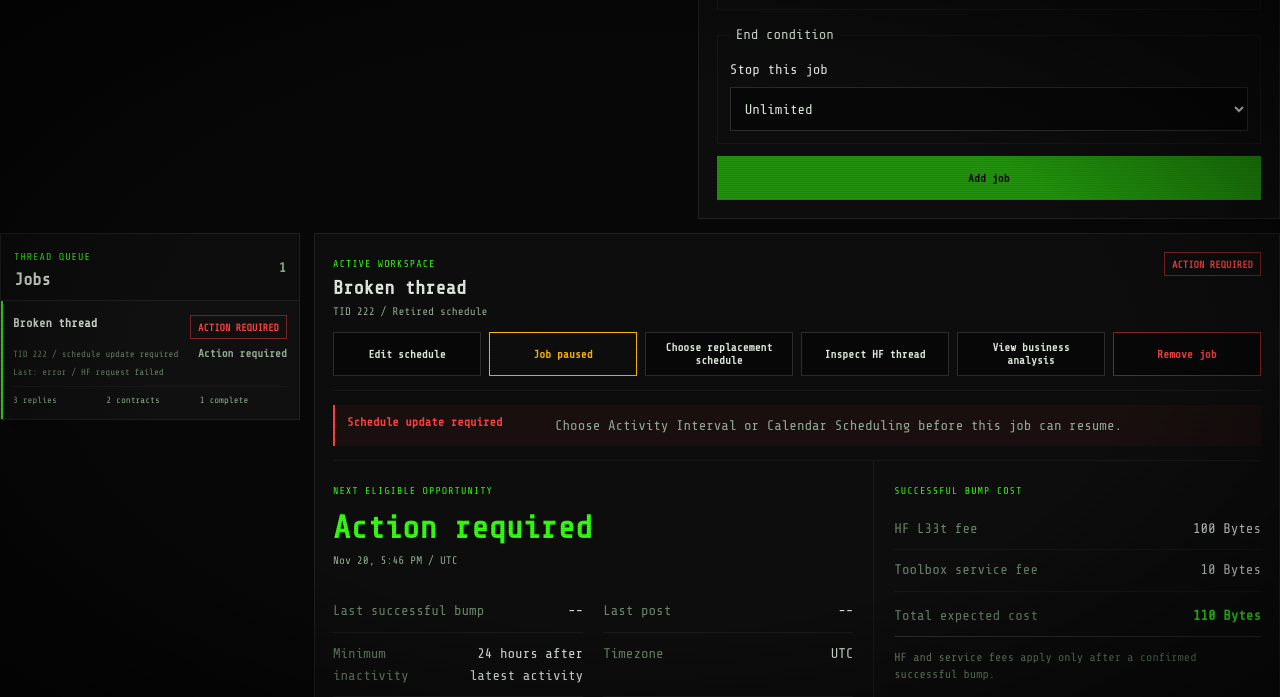
Scenario: Bump Service page interactions › shows that retired Page 1 jobs are already paused
(page scrolled)
expect the text "Job paused" is shown: met, box top-left (489, 332), bottom-right (637, 376)
Click the button "Choose replacement schedule" at (719, 354), box top-left (645, 332), bottom-right (793, 376)
(page scrolled)
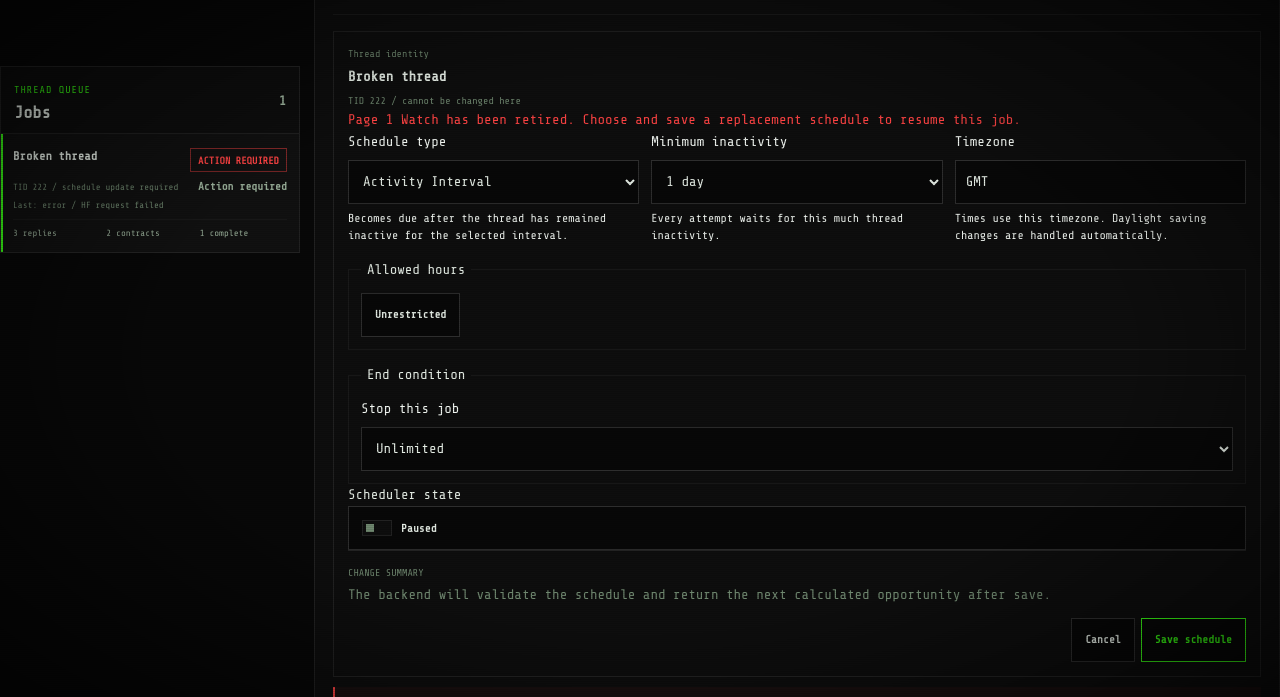
expect the element named "Edit schedule" is shown: met
